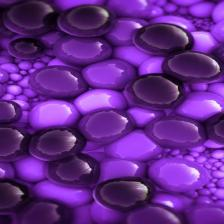purple: (2, 0, 224, 224)
